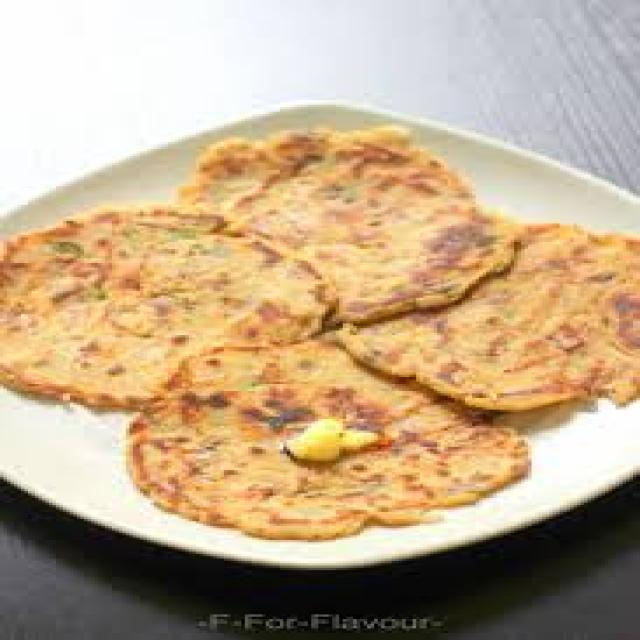ROTI: (129, 340, 525, 538), (0, 205, 318, 407), (182, 130, 514, 321), (339, 223, 637, 410)
